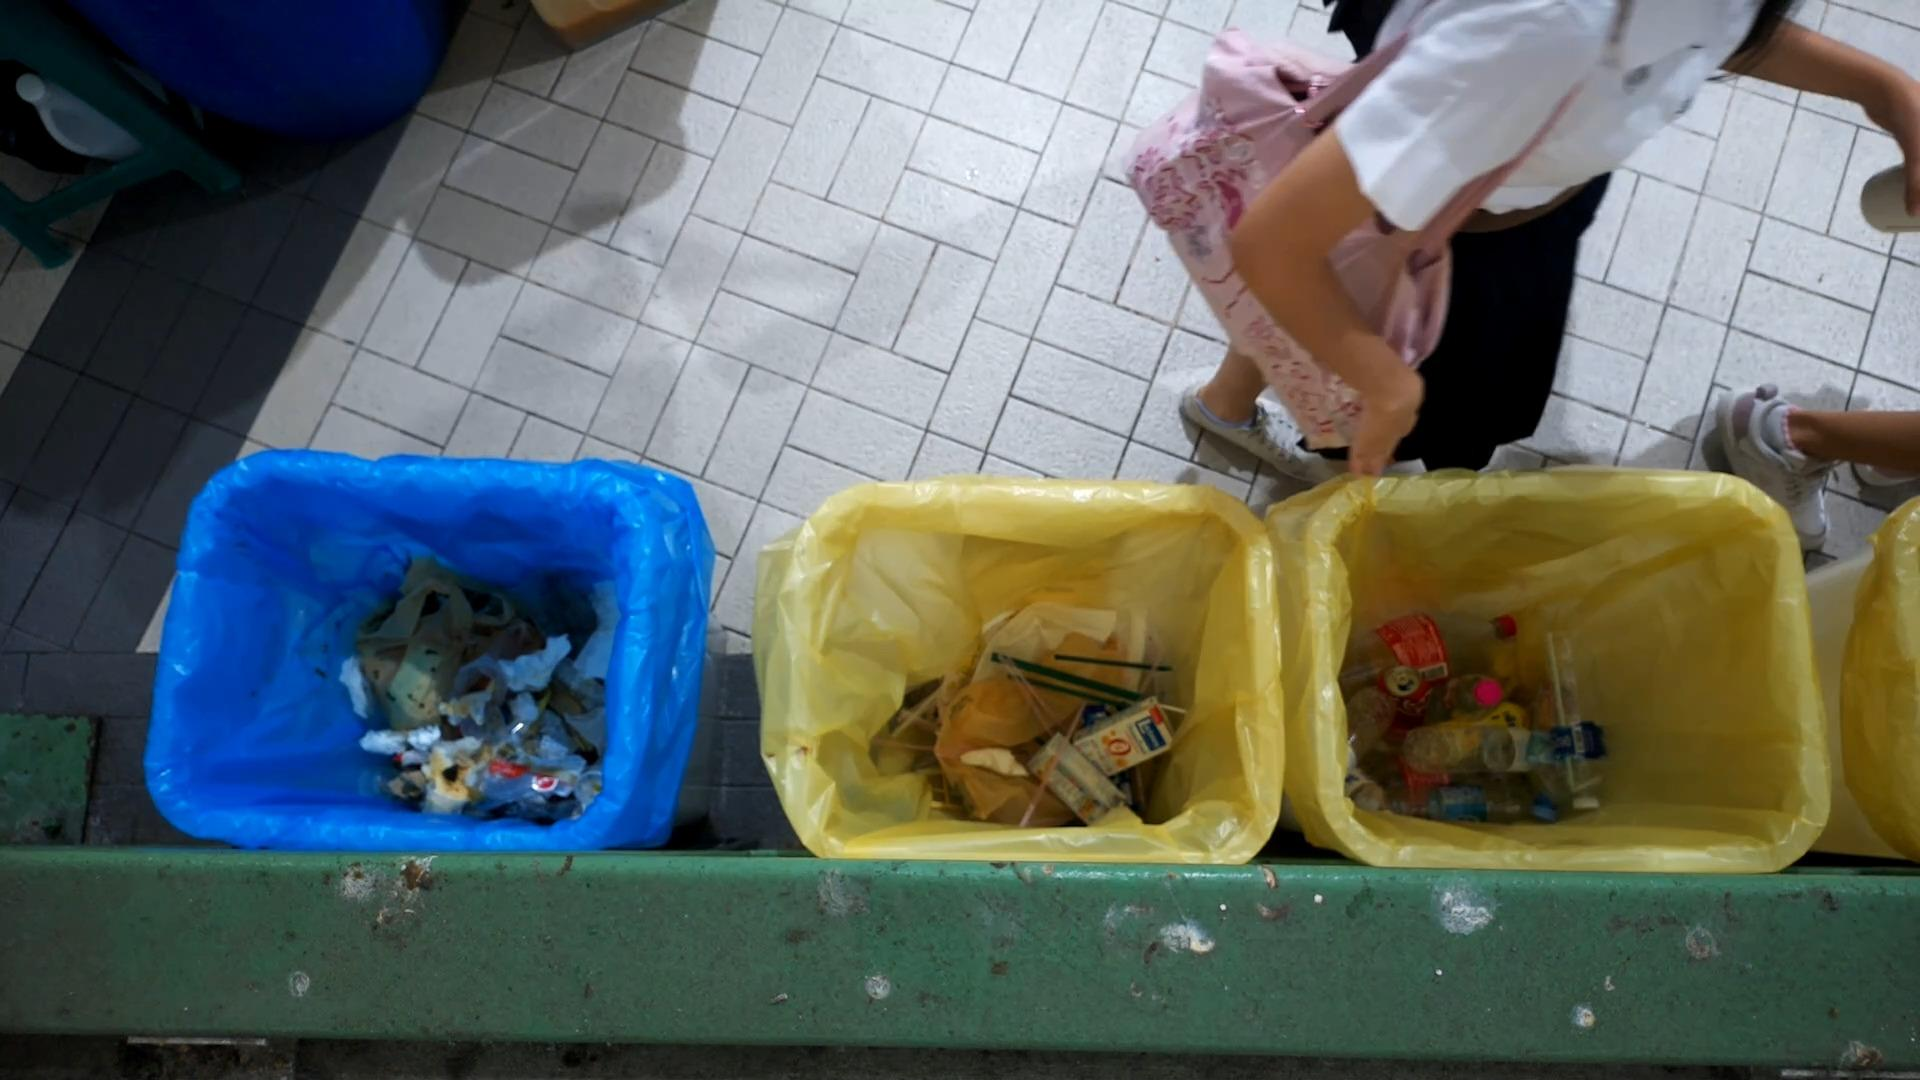can: (1381, 658, 1439, 742)
filled plastic bag: (330, 554, 462, 719)
milk carton: (1069, 683, 1179, 782), (1026, 731, 1127, 823)
plastic bag: (963, 596, 1154, 695)
plastic bottle: (1340, 600, 1522, 683), (1548, 628, 1618, 812), (1399, 721, 1553, 775), (1395, 782, 1569, 822), (1341, 682, 1398, 764), (1436, 666, 1506, 728)
straw: (1006, 699, 1089, 827), (1544, 630, 1604, 794), (988, 647, 1145, 708), (890, 666, 965, 736), (1000, 661, 1060, 729), (1050, 647, 1178, 679), (1153, 698, 1183, 711)
tissue paper: (495, 625, 597, 705), (353, 727, 443, 758), (955, 741, 1031, 773)
